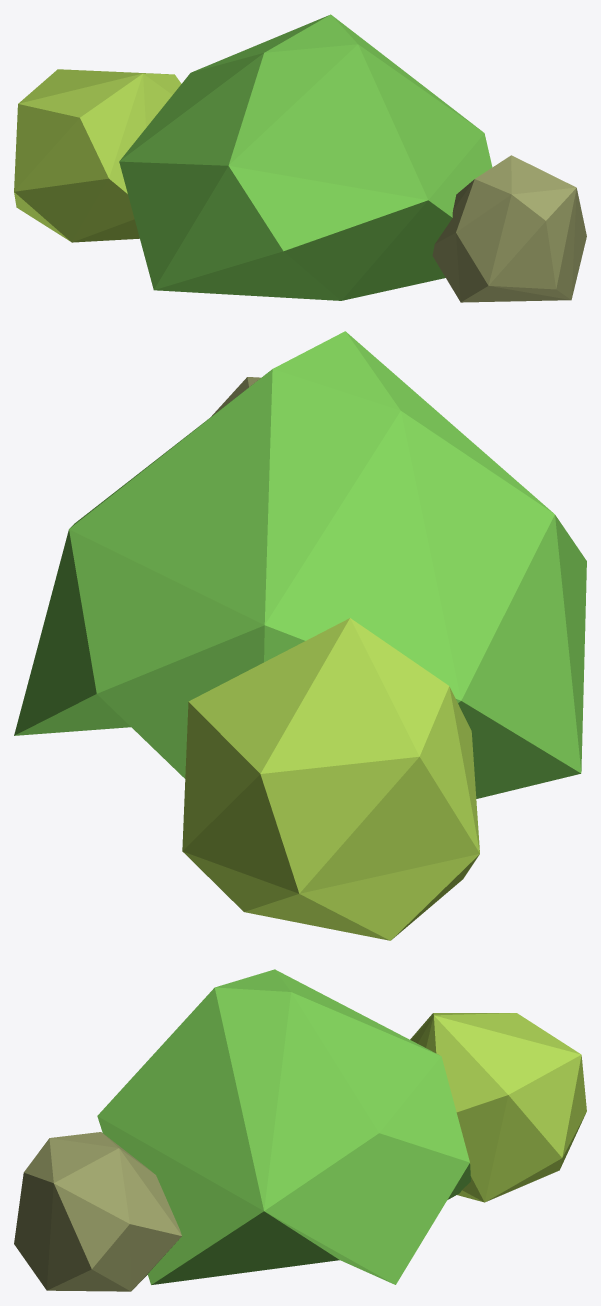
Rendered from Arbusto 2.fbx.
3 views of the same model, one above another, from view 1: azimuth 30°, elevation 25°; view 2: azimuth 150°, elevation 25°; view 3: azimuth 270°, elevation 25° (orthographic). The views are drawn at different scales.
Parts seen in each view (by area): view 1: Arbusto6, Arbusto4, Arbusto5; view 2: Arbusto6, Arbusto4; view 3: Arbusto6, Arbusto4, Arbusto5.
Boxes of the visible parts, <box> form: Arbusto6: <box>119,14,492,300</box>; Arbusto4: <box>14,69,181,242</box>; Arbusto5: <box>432,155,586,302</box>; Arbusto6: <box>14,331,586,798</box>; Arbusto4: <box>182,618,479,940</box>; Arbusto6: <box>97,969,470,1284</box>; Arbusto4: <box>410,1013,586,1202</box>; Arbusto5: <box>14,1132,181,1291</box>.
Bounding box in the file's own units: 2822 × 1631 × 3520.
